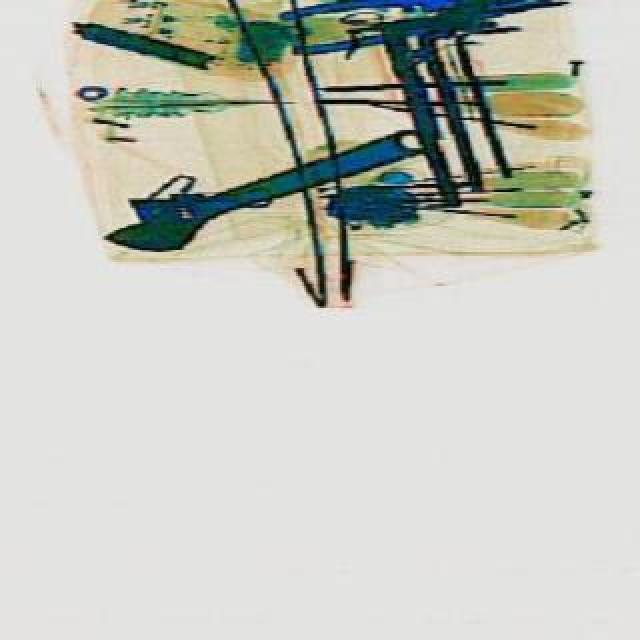scissors: (90, 106, 434, 268)
wrench: (276, 0, 560, 58)
